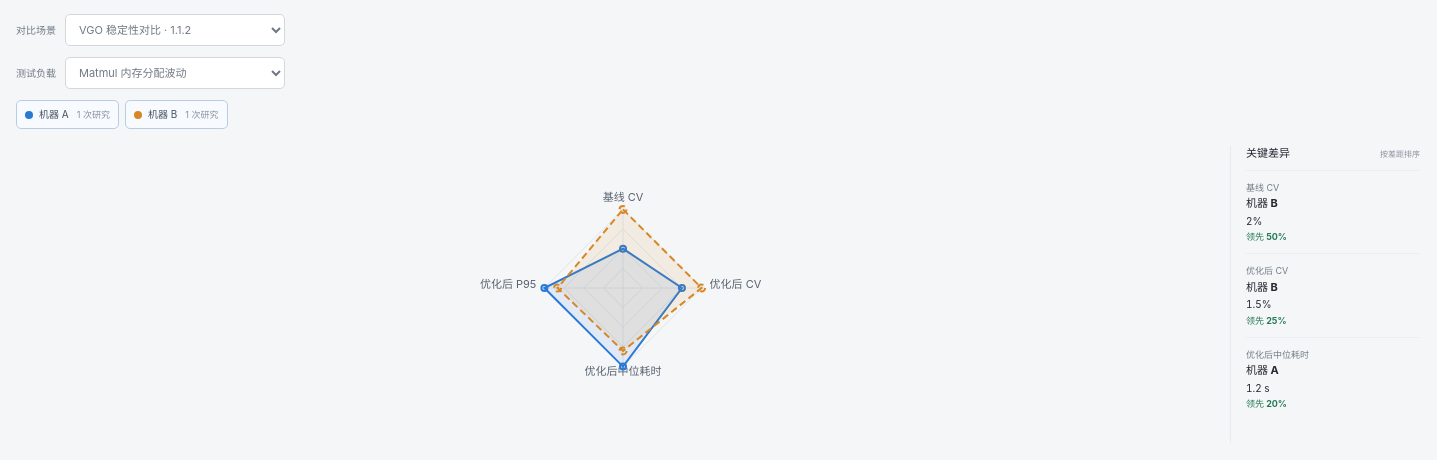
Test: ScenarioComparisonPanel › VGO 每次只展示一个负载的四项关键结果
This screenshot has width=1437, height=460.
Expected: the text "基线 CV" is shown, [603, 190, 644, 204]
Expected: the text "2%" is shown, [1246, 215, 1262, 227]
Select "7-Zip 单线程波动" in the dropdown named "选择 VGO 测试负载" at (175,73), box [65, 57, 285, 89]
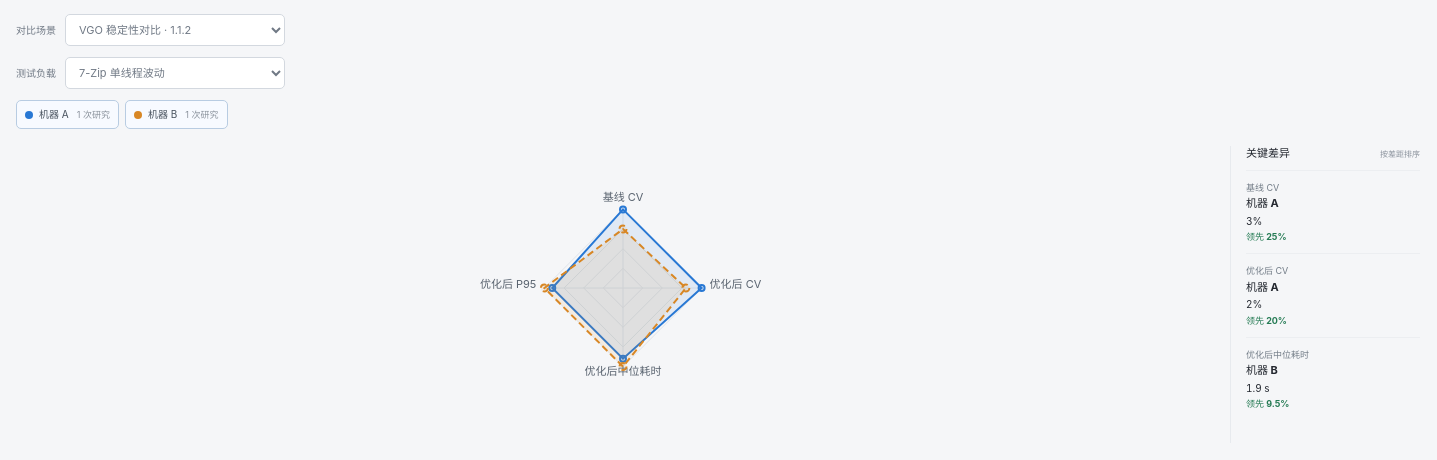
Result: the picture named "7-Zip 单线程波动目标机能力对比" is shown at [16, 133, 1230, 443]
